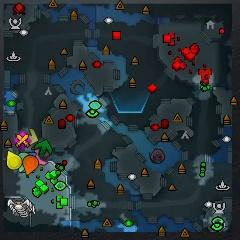Other: (15, 132, 31, 149)
p1: (28, 152, 36, 157)
p2: (19, 152, 28, 172)
p4: (6, 150, 22, 170)
p5: (24, 155, 38, 174)
x1: (34, 148, 49, 165)
x2: (26, 129, 38, 144)
x4: (36, 140, 52, 157)
